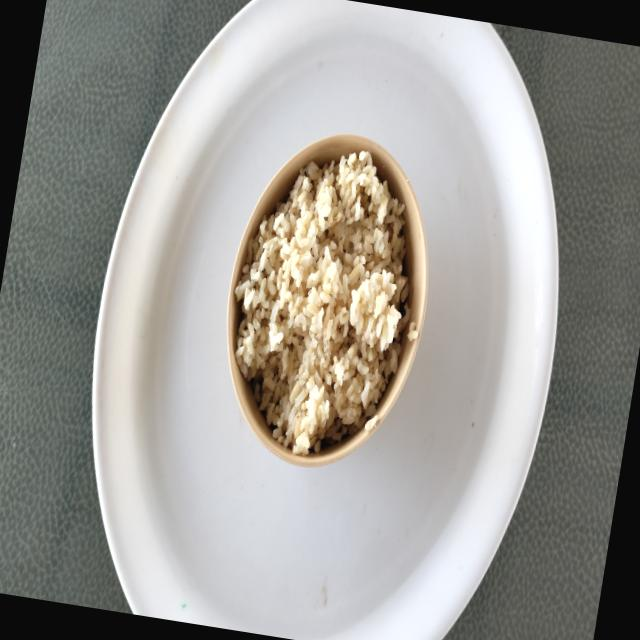brown-rice: (236, 151, 410, 456)
